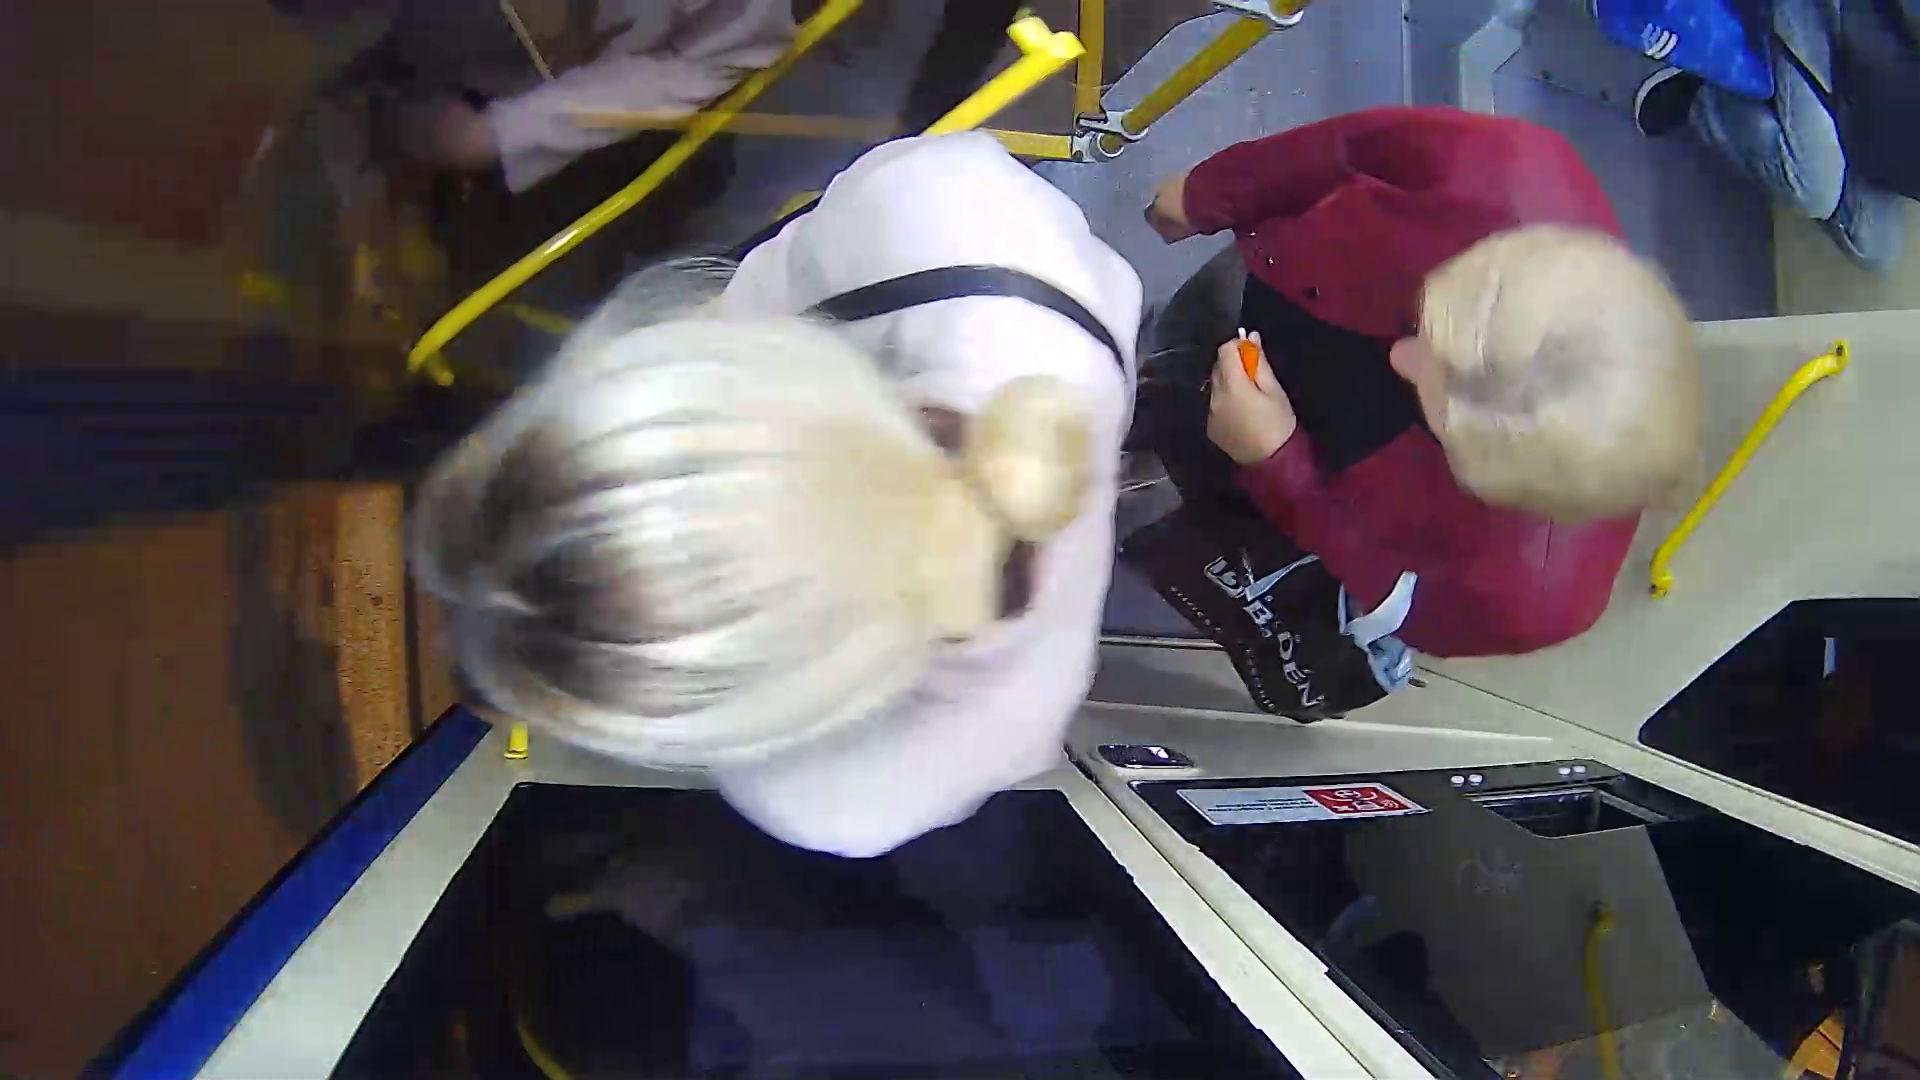person: (461, 186, 1160, 851), (1128, 92, 1701, 705)
